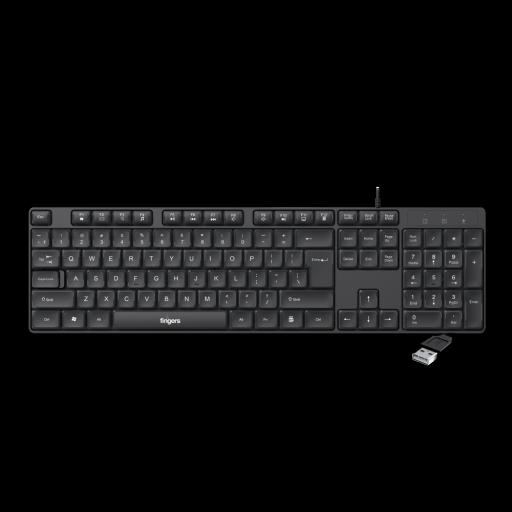keyboard: (28, 205, 486, 332)
